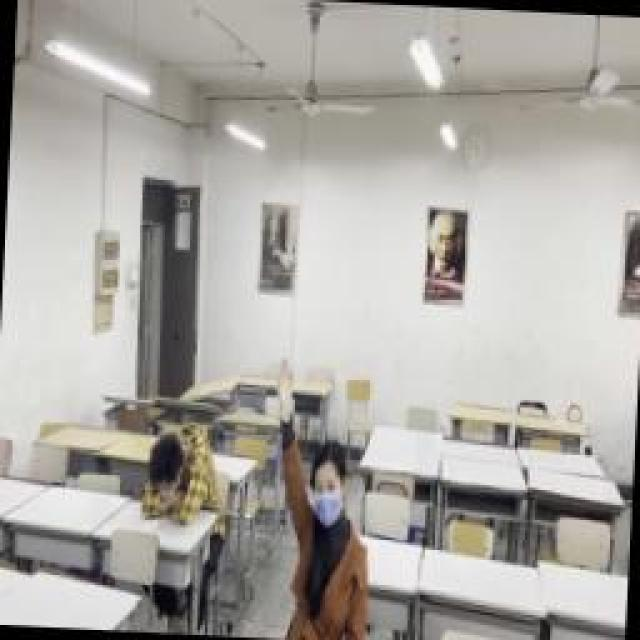sleep: (140, 420, 218, 525)
study: (265, 355, 383, 640)
